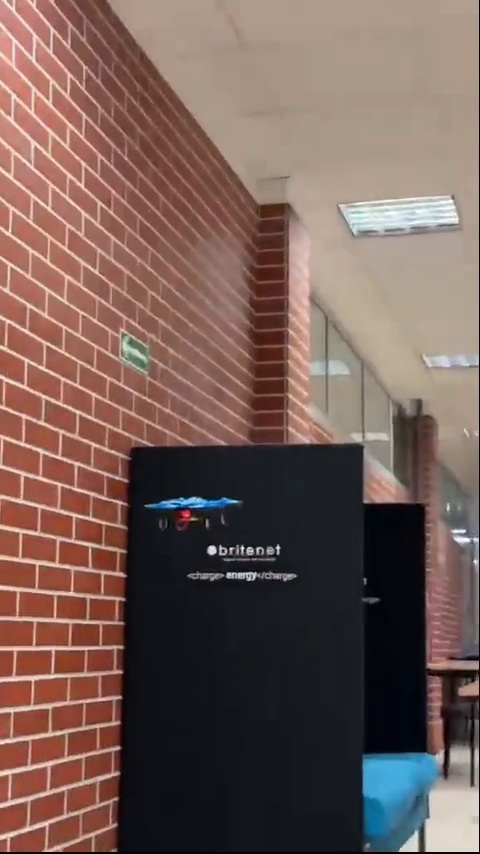drone: (147, 495, 248, 532)
